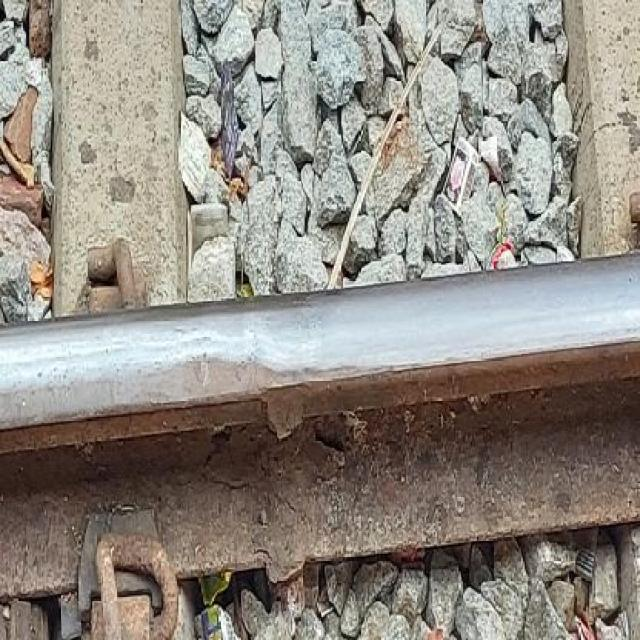non-defective: (0, 240, 640, 566)
